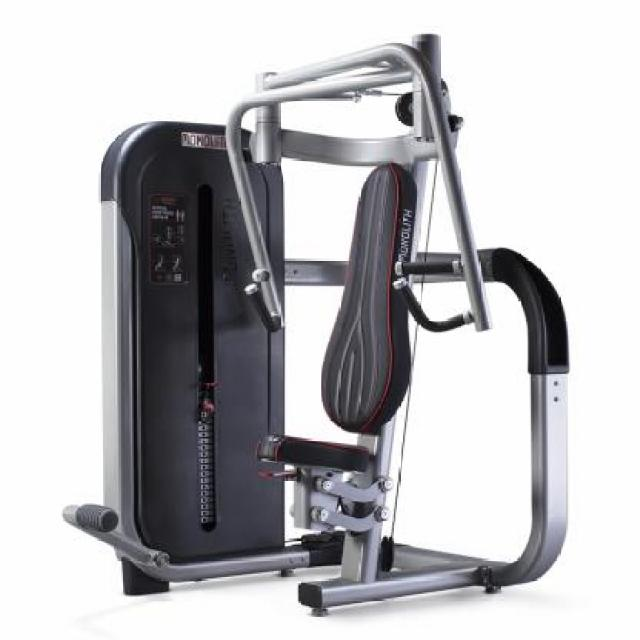Chest Press machine: (58, 22, 576, 623)
